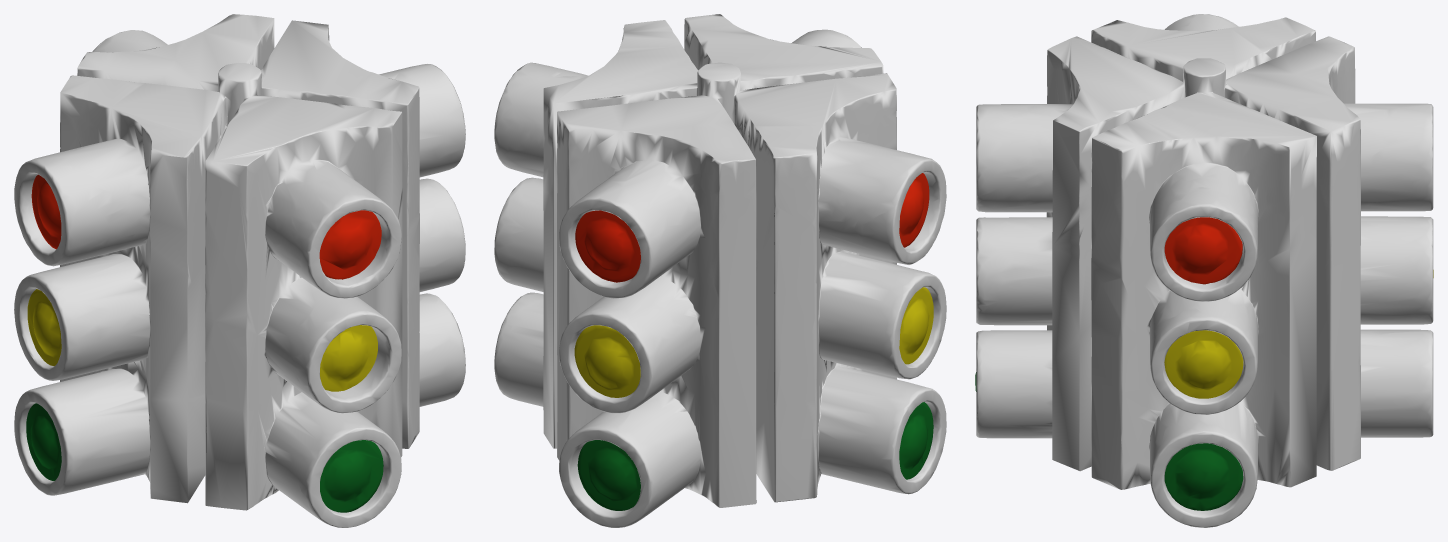
The model's file is trafficLight.fbx.
3 renders of one model, left to right at view 1: azimuth 30°, elevation 25°; view 2: azimuth 150°, elevation 25°; view 3: azimuth 270°, elevation 25°, orthographic.
Visible parts, largest first — view 1: Layer_1, Layer_2; view 2: Layer_1, Layer_2; view 3: Layer_1, Layer_2.
Boxes of the visible parts, box(x1,y1,x2,y2) form: Layer_1: box(14, 14, 465, 527); Layer_2: box(26, 174, 383, 512); Layer_1: box(494, 14, 946, 527); Layer_2: box(574, 173, 933, 510); Layer_1: box(976, 14, 1433, 527); Layer_2: box(975, 217, 1433, 510).
Size of the model in its own units: 1.83 by 1.84 by 1.62.
